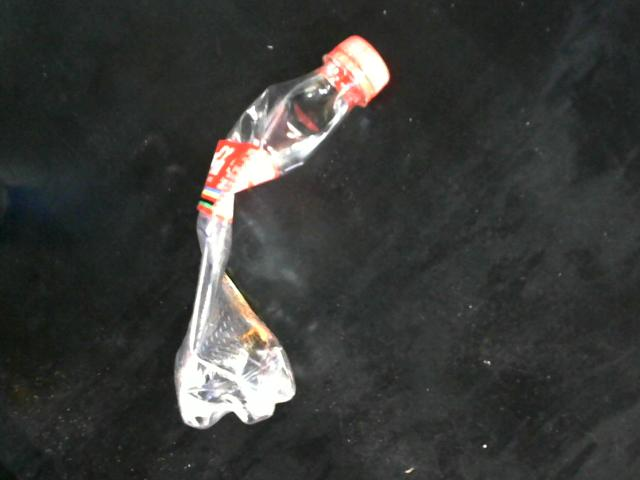bottle: (168, 29, 397, 433)
